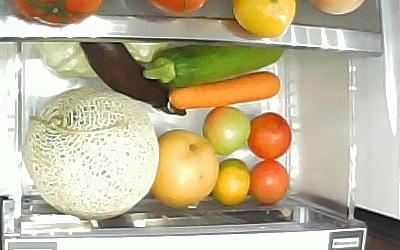cabbage: (37, 42, 169, 80)
carrot: (168, 71, 282, 110)
eggplant: (80, 43, 186, 116)
melon: (21, 87, 159, 221)
pear: (152, 129, 218, 208)
prune: (248, 112, 291, 160)
tangerine: (214, 158, 249, 207)
tomato: (204, 105, 250, 156), (248, 160, 291, 205)
zucchini: (142, 45, 289, 88)
